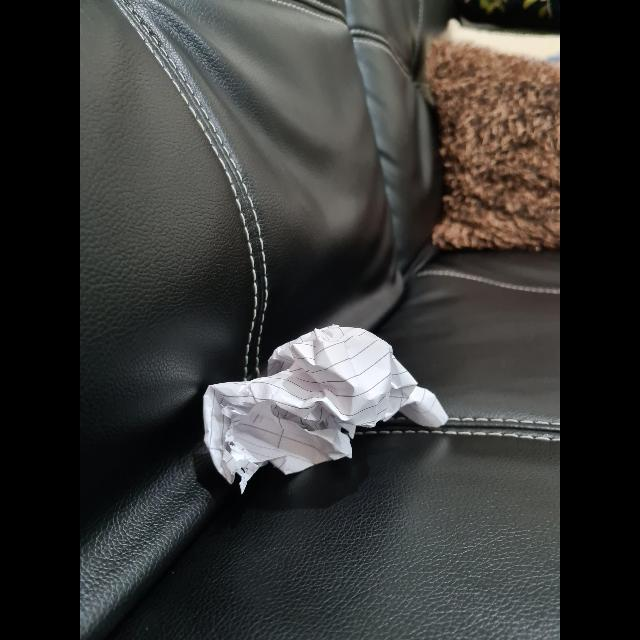scrap_paper: (200, 322, 458, 480)
